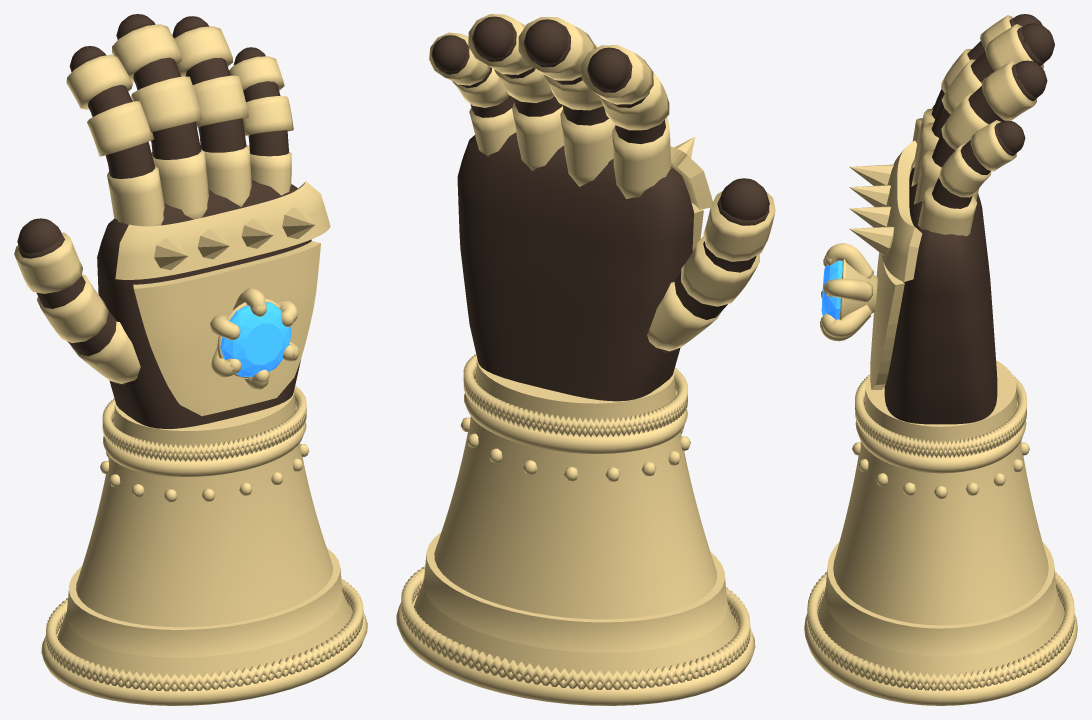
The model's file is gloves_power_rare.glb.
3 views of the same model, side by side, from view 1: azimuth 30°, elevation 25°; view 2: azimuth 150°, elevation 25°; view 3: azimuth 270°, elevation 25° (orthographic). The views are drawn at different scales.
Parts seen in each view (by area): view 1: gloves_power_rare; view 2: gloves_power_rare; view 3: gloves_power_rare.
Boxes of the visible parts, x1,y1,x2,y2 form: gloves_power_rare: [14, 14, 367, 705]; gloves_power_rare: [396, 14, 775, 705]; gloves_power_rare: [804, 14, 1077, 705].
Bounding box in the file's own units: 1.61 × 2.82 × 1.16.
